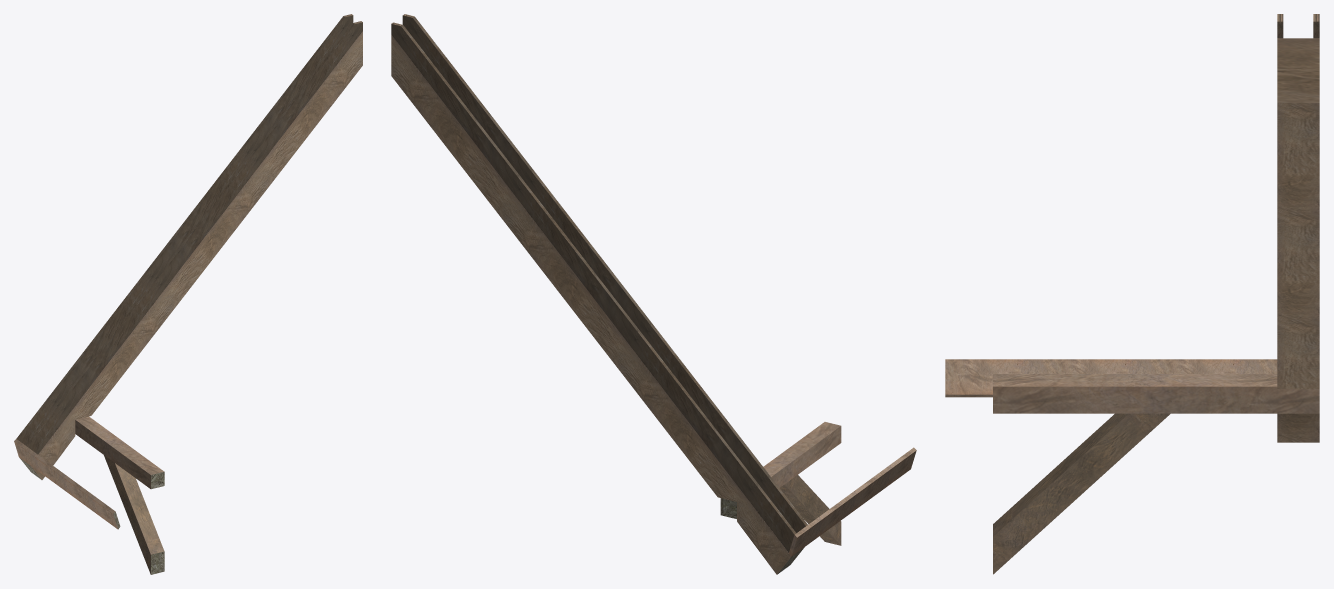
Rendered from RafterCapOverhangAMirror.fbx.
3 renders of one model, left to right at view 1: azimuth 30°, elevation 25°; view 2: azimuth 150°, elevation 25°; view 3: azimuth 270°, elevation 25°, orthographic. The views are drawn at different scales.
Parts seen in each view (by area): view 1: RafterCapOverhangAMirror; view 2: RafterCapOverhangAMirror; view 3: RafterCapOverhangAMirror.
Boxes of the visible parts, x1,y1,x2,y2 form: RafterCapOverhangAMirror: (14,14,362,574); RafterCapOverhangAMirror: (391,14,916,574); RafterCapOverhangAMirror: (945,14,1319,574).
Size of the model in its own units: 465 by 562 by 237.
